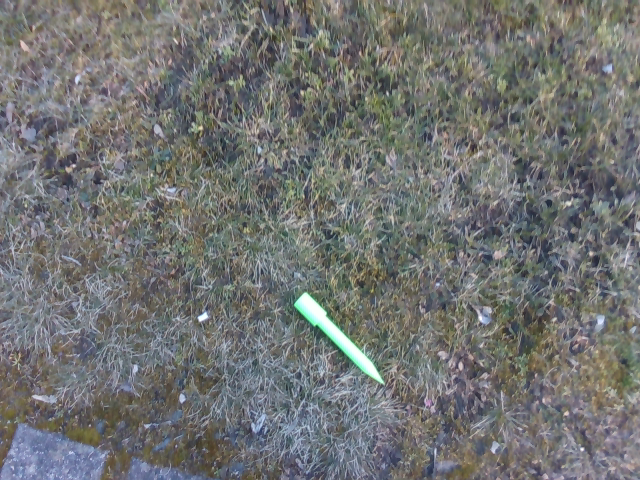Probe: (292, 289, 389, 392)
